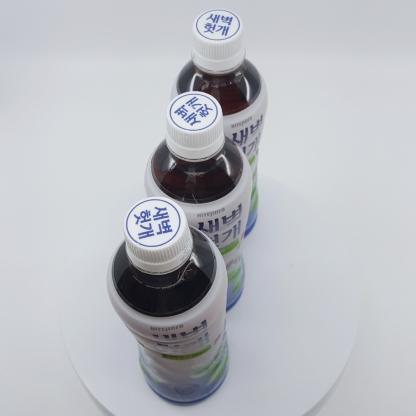---------520ML: (106, 196, 228, 406), (144, 91, 253, 312), (170, 8, 268, 239)
